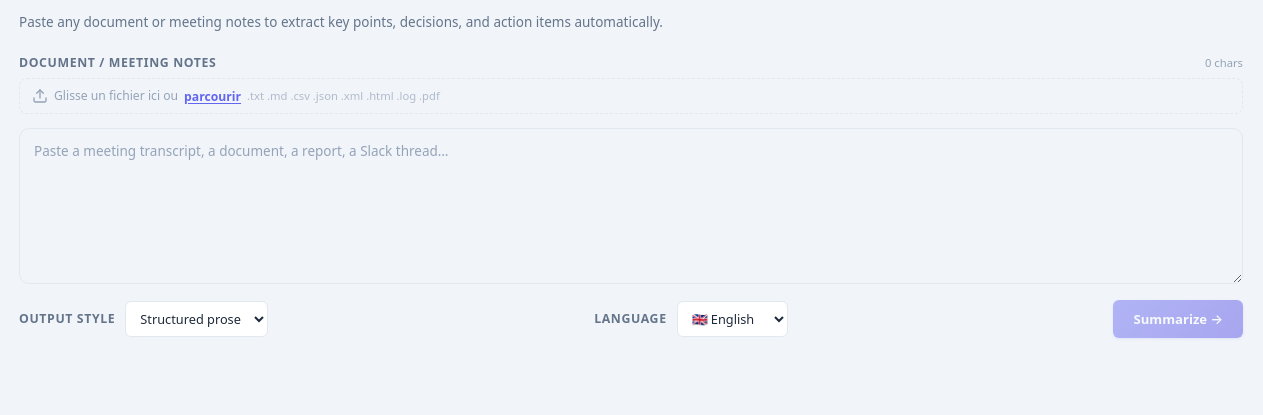
Test case: DocumentAnalyzer › shows error when fetch throws (network failure)
Step 1. Type "some notes" into the text box labelled "Document / meeting notes" → [631, 206], box [19, 128, 1243, 284]
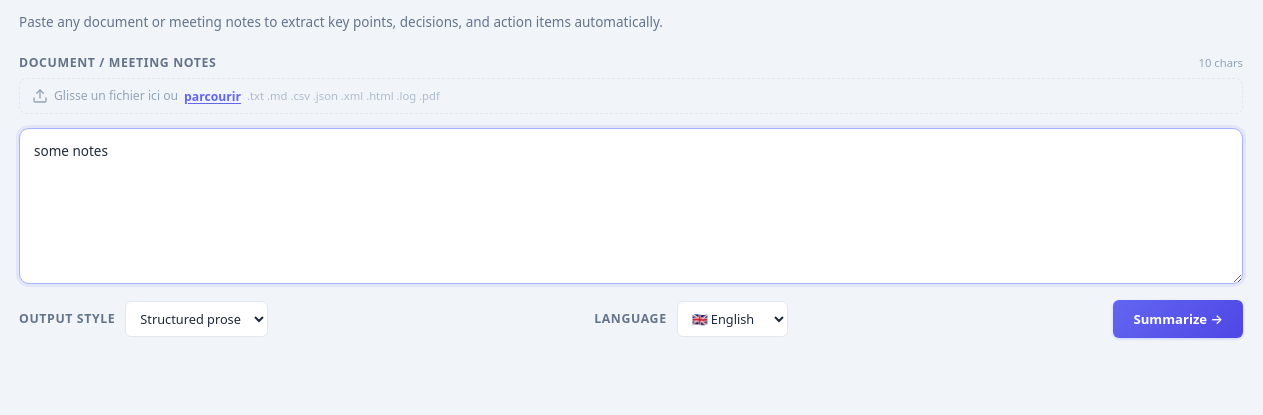
Step 2. Click the button "Summarize →" → [1178, 319], box [1114, 300, 1243, 338]
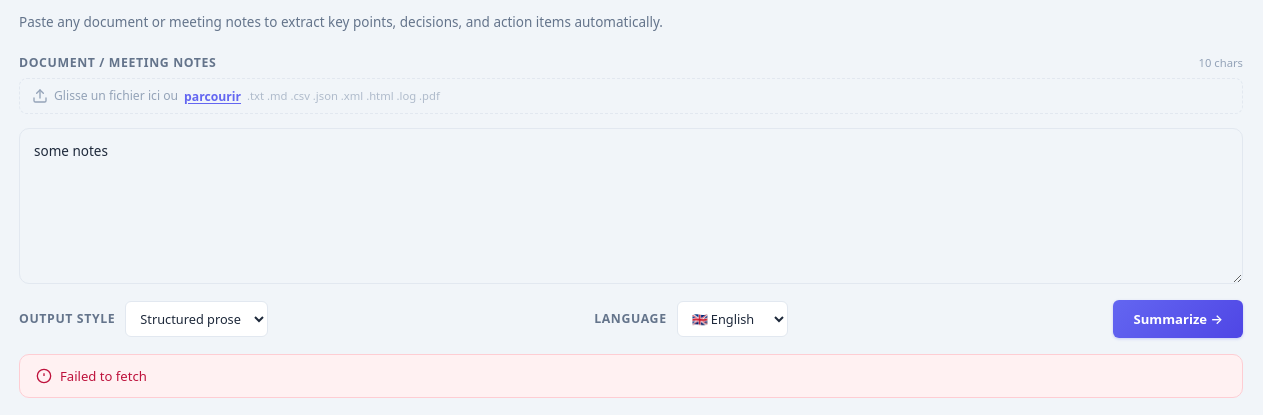
Now the message "Failed to fetch" is shown, box [19, 354, 1243, 398]
